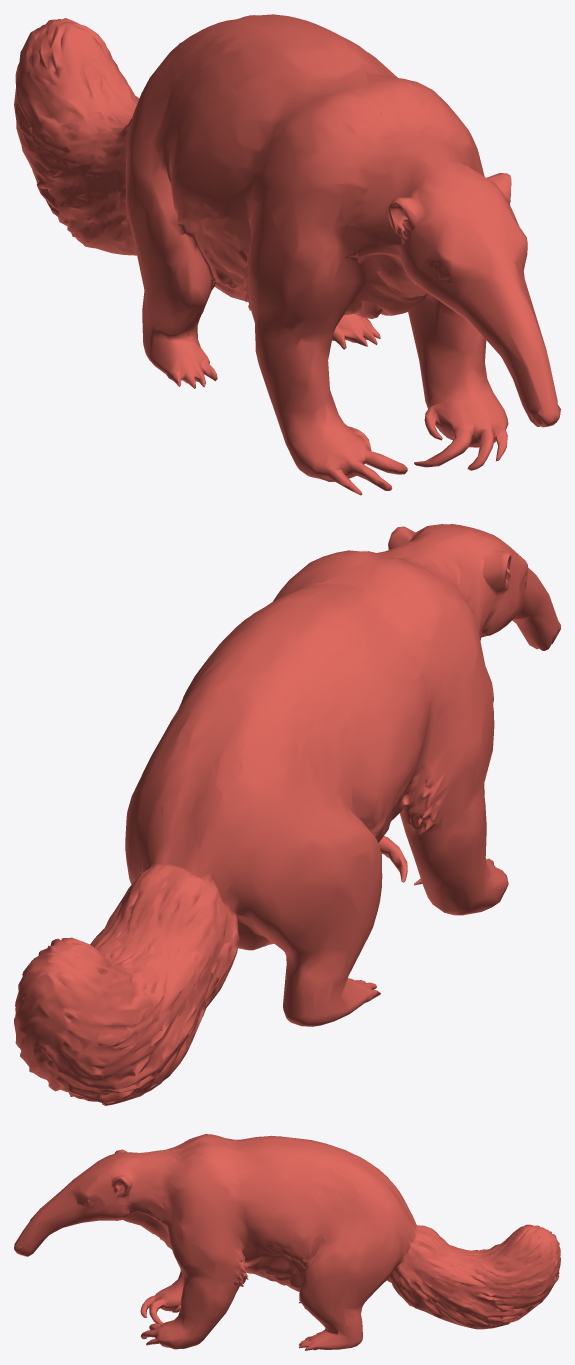
Rendered from AnteaterMesh.obj.
3 renders of one model, top to bottom at view 1: azimuth 30°, elevation 25°; view 2: azimuth 150°, elevation 25°; view 3: azimuth 270°, elevation 25°, orthographic. The views are drawn at different scales.
Visible parts, largest first — view 1: AnteaterMesh; view 2: AnteaterMesh; view 3: AnteaterMesh.
Boxes of the visible parts, bbox=[...] form: AnteaterMesh: bbox=[14, 14, 560, 495]; AnteaterMesh: bbox=[14, 524, 560, 1105]; AnteaterMesh: bbox=[14, 1134, 560, 1350].
Bounding box in the file's own units: 0.4759 × 0.7176 × 1.9.
